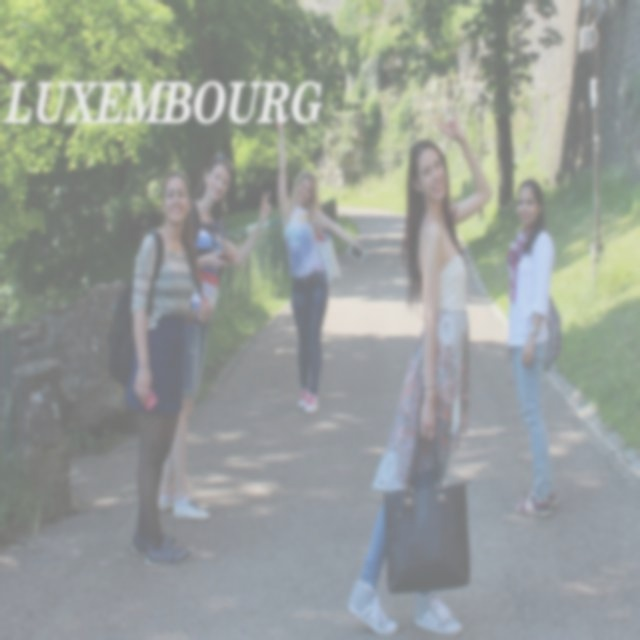pessoa: (343, 107, 496, 640), (154, 150, 273, 524), (125, 170, 212, 569), (272, 101, 366, 418), (502, 176, 565, 520)
